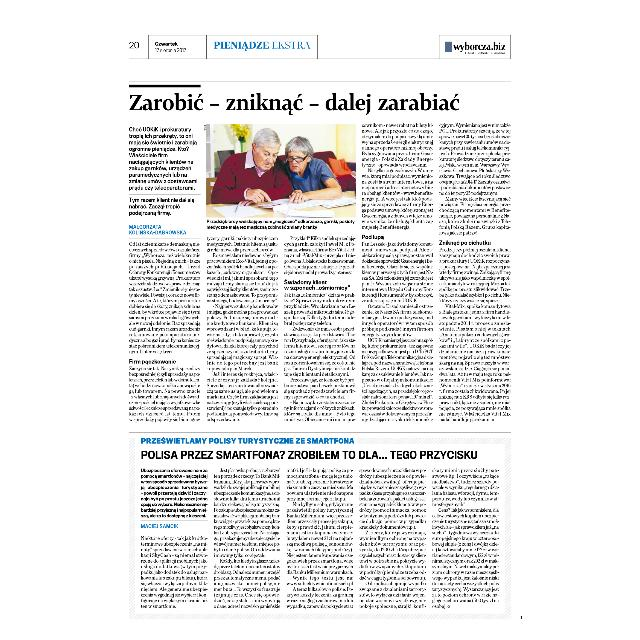article: (126, 81, 514, 426), (128, 429, 510, 615)
